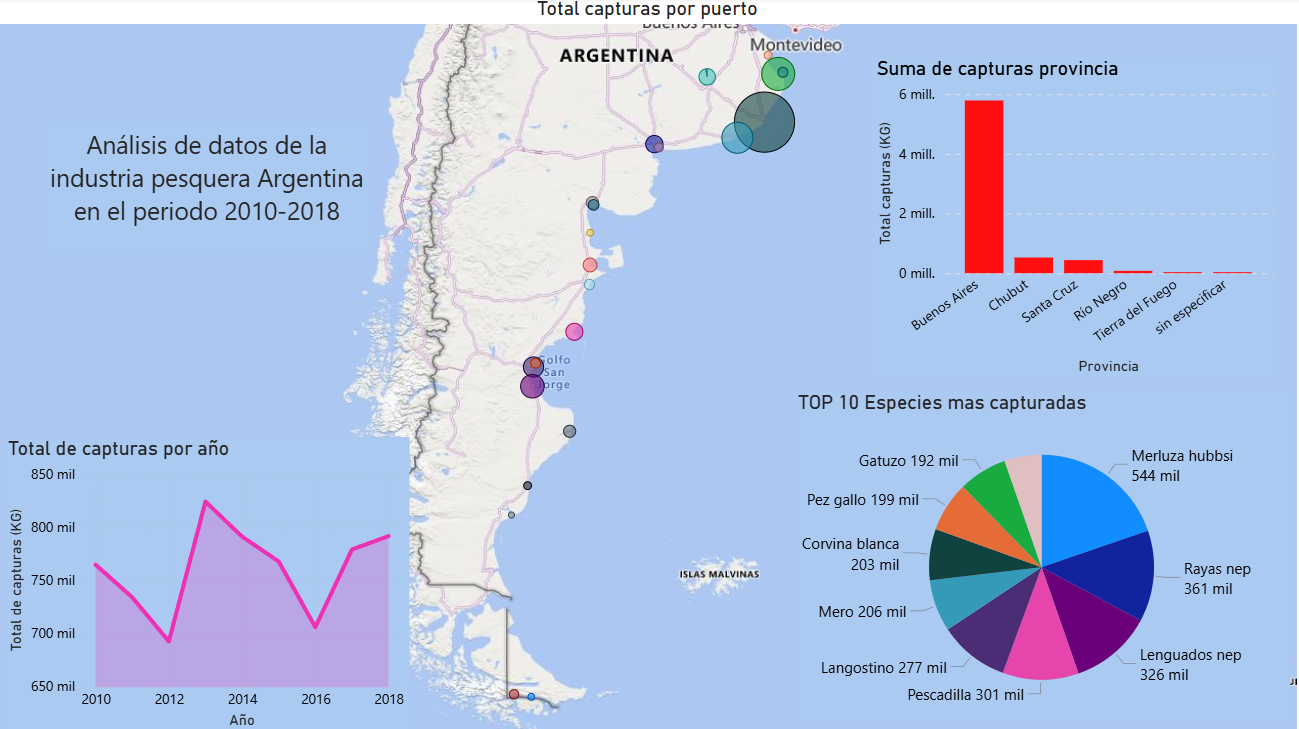

This screenshot's page, from the dashboard's own definition file:
{"tool":"powerbi","page":{"name":"Página 1","canvas":[1280,720],"ordinal":0},"visuals":[{"type":"map","title":"Total capturas por puerto","fields":{"Y":["captura-puerto-flota-2010-2018 (2).latitud"],"Series":["captura-puerto-flota-2010-2018 (2).puerto"],"X":["captura-puerto-flota-2010-2018 (2).longitud"],"Size":["Sum(captura-puerto-flota-2010-2018 (2).captura_toneladas)"]},"box":[0,0,1280.3,720.2],"z":0},{"type":"clusteredColumnChart","title":"Suma de capturas provincia","fields":{"Y":["Sum(captura-puerto-flota-2010-2018 (2).captura_toneladas)"],"Category":["captura-puerto-flota-2010-2018 (2).provincia"]},"box":[859.7,58.7,397.4,315.5],"z":1000},{"type":"lineChart","title":"Total de capturas por año","fields":{"Y":["Sum(captura-puerto-flota-2010-2018 (2).captura_toneladas)"],"Category":["captura-puerto-flota-2010-2018 (2).año"]},"box":[9.8,430.4,397.4,289.8],"z":2000},{"type":"pieChart","title":"   TOP 10 Especies mas capturadas","fields":{"Category":["captura-puerto-flota-2010-2018 (2).especie"],"Y":["Sum(captura-puerto-flota-2010-2018 (2).captura_toneladas)"]},"box":[782.6,385.2,486.7,324.1],"z":3000},{"type":"textbox","box":[47.7,123.5,322.8,128.4],"z":3001}]}

Visuals, with their boxes in screenshot pixels (x1, y1, x2, y2), scaled from the page's 1280x720 canvas onto the 1299x729 screenshot:
"Total capturas por puerto" map: detection(0, 0, 1298, 728)
"Suma de capturas provincia" clusteredColumnChart: detection(872, 59, 1276, 379)
"Total de capturas por año" lineChart: detection(10, 436, 413, 728)
"   TOP 10 Especies mas capturadas" pieChart: detection(794, 390, 1288, 718)
textbox: detection(48, 125, 376, 255)
